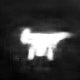plane: (17, 25, 77, 60)
